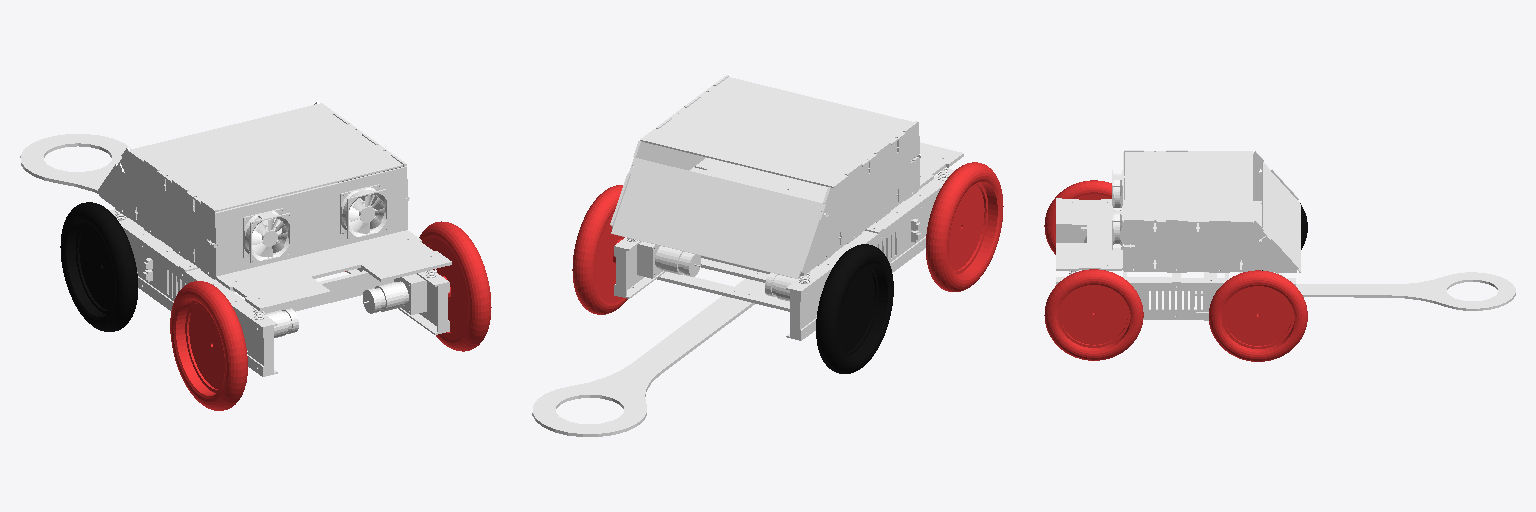
robot.urdf — minesweeper_continuous:
<robot
  name="minesweeper_continuous">
  <link
    name="base_link">
    <inertial>
      <origin
        xyz="0.0101433552629742 -0.192322168082269 0.189852556981618"
        rpy="0 0 0" />
      <mass
        value="4.58359555572016" />
      <inertia
        ixx="0.0760321104523467"
        ixy="-3.43185580070933E-05"
        ixz="-0.000120186704237009"
        iyy="0.0837563494744535"
        iyz="-0.00256045265833032"
        izz="0.11566932850329" />
    </inertial>
    <visual>
      <origin
        xyz="0 0 0"
        rpy="0 0 0" />
      <geometry>
        <mesh
          filename="package://minesweeper_continuous/meshes/base_link.STL" />
      </geometry>
      <material
        name="">
        <color
          rgba="1 1 1 1" />
      </material>
    </visual>
    <collision>
      <origin
        xyz="0 0 0"
        rpy="0 0 0" />
      <geometry>
        <mesh
          filename="package://minesweeper_continuous/meshes/base_link.STL" />
      </geometry>
    </collision>
  </link>
  <link
    name="metal_detector">
    <inertial>
      <origin
        xyz="1.07899800205757E-15 -0.22806788732392 4.16333634234434E-17"
        rpy="0 0 0" />
      <mass
        value="0.331064296239242" />
      <inertia
        ixx="0"
        ixy="0"
        ixz="0"
        iyy="0"
        iyz="0"
        izz="0" />
    </inertial>
    <visual>
      <origin
        xyz="0 0 0"
        rpy="0 0 0" />
      <geometry>
        <mesh
          filename="package://minesweeper_continuous/meshes/metal_detector.STL" />
      </geometry>
      <material
        name="">
        <color
          rgba="1 1 1 1" />
      </material>
    </visual>
    <collision>
      <origin
        xyz="0 0 0"
        rpy="0 0 0" />
      <geometry>
        <mesh
          filename="package://minesweeper_continuous/meshes/metal_detector.STL" />
      </geometry>
    </collision>
  </link>
  <joint
    name="metal_detector_joint"
    type="fixed">
    <origin
      xyz="0.01059 0.47668 0.068608"
      rpy="-0.0079479 0 0" />
    <parent
      link="base_link" />
    <child
      link="metal_detector" />
    <axis
      xyz="0 0 0" />
  </joint>
  <link
    name="lwheel_top">
    <inertial>
      <origin
        xyz="-0.00519285108722001 -1.38777878078145E-17 -6.17561557447743E-16"
        rpy="0 0 0" />
      <mass
        value="0.919521013052642" />
      <inertia
        ixx="4.68017115076158E-31"
        ixy="-6.24338586096898E-20"
        ixz="-3.94871222062398E-18"
        iyy="3.33293690650387E-05"
        iyz="0"
        izz="3.33293690650387E-05" />
    </inertial>
    <visual>
      <origin
        xyz="0 0 0"
        rpy="0 0 0" />
      <geometry>
        <mesh
          filename="package://minesweeper_continuous/meshes/lwheel_top.STL" />
      </geometry>
      <material
        name="">
        <color
          rgba="0.0980392156862745 0.0980392156862745 0.0980392156862745 1" />
      </material>
    </visual>
    <collision>
      <origin
        xyz="0 0 0"
        rpy="0 0 0" />
      <geometry>
        <mesh
          filename="package://minesweeper_continuous/meshes/lwheel_top.STL" />
      </geometry>
    </collision>
  </link>
  <joint
    name="lwheel_top_joint"
    type="continuous">
    <origin
      xyz="-0.23286 -0.019657 0.11955"
      rpy="1.2329 0 3.1416" />
    <parent
      link="base_link" />
    <child
      link="lwheel_top" />
    <axis
      xyz="1 0 0" />
  </joint>
  <link
    name="rwheel_top">
    <inertial>
      <origin
        xyz="8.6389229103645E-16 2.77555756156289E-16 -0.00526226622066422"
        rpy="0 0 0" />
      <mass
        value="0.919521013052642" />
      <inertia
        ixx="3.33293690650388E-05"
        ixy="-1.61638769722281E-31"
        ixz="4.17020283687496E-18"
        iyy="3.33293690650388E-05"
        iyz="1.29190794035306E-18"
        izz="5.71900925139603E-31" />
    </inertial>
    <visual>
      <origin
        xyz="0 0 0"
        rpy="0 0 0" />
      <geometry>
        <mesh
          filename="package://minesweeper_continuous/meshes/rwheel_top.STL" />
      </geometry>
      <material
        name="">
        <color
          rgba="0.964705882352941 0.254901960784314 0.254901960784314 1" />
      </material>
    </visual>
    <collision>
      <origin
        xyz="0 0 0"
        rpy="0 0 0" />
      <geometry>
        <mesh
          filename="package://minesweeper_continuous/meshes/rwheel_top.STL" />
      </geometry>
    </collision>
  </link>
  <joint
    name="rwheel_top_joint"
    type="continuous">
    <origin
      xyz="0.24359 -0.019657 0.11955"
      rpy="-1.5708 6.123E-17 1.5708" />
    <parent
      link="base_link" />
    <child
      link="rwheel_top" />
    <axis
      xyz="1 0 0" />
  </joint>
  <link
    name="lwheel_bot">
    <inertial>
      <origin
        xyz="8.32667268468867E-16 2.77555756156289E-16 -0.0052622662206642"
        rpy="0 0 0" />
      <mass
        value="0.919521013052642" />
      <inertia
        ixx="3.33293690650385E-05"
        ixy="-1.57335119809088E-31"
        ixz="3.64774006687922E-18"
        iyy="3.33293690650385E-05"
        iyz="1.44389710980636E-18"
        izz="4.66234656866467E-31" />
    </inertial>
    <visual>
      <origin
        xyz="0 0 0"
        rpy="0 0 0" />
      <geometry>
        <mesh
          filename="package://minesweeper_continuous/meshes/lwheel_bot.STL" />
      </geometry>
      <material
        name="">
        <color
          rgba="0.964705882352941 0.254901960784314 0.254901960784314 1" />
      </material>
    </visual>
    <collision>
      <origin
        xyz="0 0 0"
        rpy="0 0 0" />
      <geometry>
        <mesh
          filename="package://minesweeper_continuous/meshes/lwheel_bot.STL" />
      </geometry>
    </collision>
  </link>
  <joint
    name="lwheel_bot_joint"
    type="continuous">
    <origin
      xyz="-0.22241 -0.39965 0.12257"
      rpy="1.5708 6.123E-17 1.5708" />
    <parent
      link="base_link" />
    <child
      link="lwheel_bot" />
    <axis
      xyz="1 0 0" />
  </joint>
  <link
    name="rwheel_bot">
    <inertial>
      <origin
        xyz="8.88178419700125E-16 3.05311331771918E-16 -0.00526226622066425"
        rpy="0 0 0" />
      <mass
        value="0.919521013052642" />
      <inertia
        ixx="3.33293690650391E-05"
        ixy="-1.62209374989523E-31"
        ixz="3.95171840578586E-18"
        iyy="3.33293690650391E-05"
        iyz="1.36790252507972E-18"
        izz="5.2472571903168E-31" />
    </inertial>
    <visual>
      <origin
        xyz="0 0 0"
        rpy="0 0 0" />
      <geometry>
        <mesh
          filename="package://minesweeper_continuous/meshes/rwheel_bot.STL" />
      </geometry>
      <material
        name="">
        <color
          rgba="0.964705882352941 0.254901960784314 0.254901960784314 1" />
      </material>
    </visual>
    <collision>
      <origin
        xyz="0 0 0"
        rpy="0 0 0" />
      <geometry>
        <mesh
          filename="package://minesweeper_continuous/meshes/rwheel_bot.STL" />
      </geometry>
    </collision>
  </link>
  <joint
    name="rwheel_bot_joint"
    type="continuous">
    <origin
      xyz="0.24359 -0.39965 0.12257"
      rpy="-1.5708 6.123E-17 1.5708" />
    <parent
      link="base_link" />
    <child
      link="rwheel_bot" />
    <axis
      xyz="1 0 0" />
  </joint>
</robot>

--- What the picture shows (computed from the rendered views, not written in the file) ---
The picture shows the robot from 3 angles, left to right: view 1: azimuth 30°, elevation 25°; view 2: azimuth 150°, elevation 25°; view 3: azimuth 270°, elevation 25°; orthographic projection.
Model minesweeper_continuous with 6 links and 5 joints (4 continuous, 1 fixed), rooted at base_link, posed every joint at zero.
Visible links, largest first — view 1: base_link, lwheel_bot, lwheel_top, rwheel_bot, metal_detector; view 2: base_link, metal_detector, lwheel_top, lwheel_bot, rwheel_top; view 3: base_link, rwheel_top, rwheel_bot, metal_detector, lwheel_bot.
Link boxes in pixels (box(x1,y1,x2,y2)): base_link: box(98, 101, 451, 376); lwheel_bot: box(170, 281, 247, 410); lwheel_top: box(60, 202, 137, 331); rwheel_bot: box(419, 221, 491, 351); metal_detector: box(20, 134, 130, 193); base_link: box(610, 75, 963, 340); metal_detector: box(532, 278, 766, 436); lwheel_top: box(816, 244, 893, 373); lwheel_bot: box(926, 162, 1003, 291); rwheel_top: box(572, 185, 627, 314); base_link: box(1056, 150, 1300, 320); rwheel_top: box(1209, 270, 1307, 361); rwheel_bot: box(1044, 269, 1143, 360); metal_detector: box(1195, 272, 1515, 310); lwheel_bot: box(1044, 180, 1111, 270).
Size in the robot's own frame: 0.5269 by 1.09 by 0.3361 metres.
Meshes: 6 distinct files referenced, 6 mesh visuals loaded (6 binary STL).